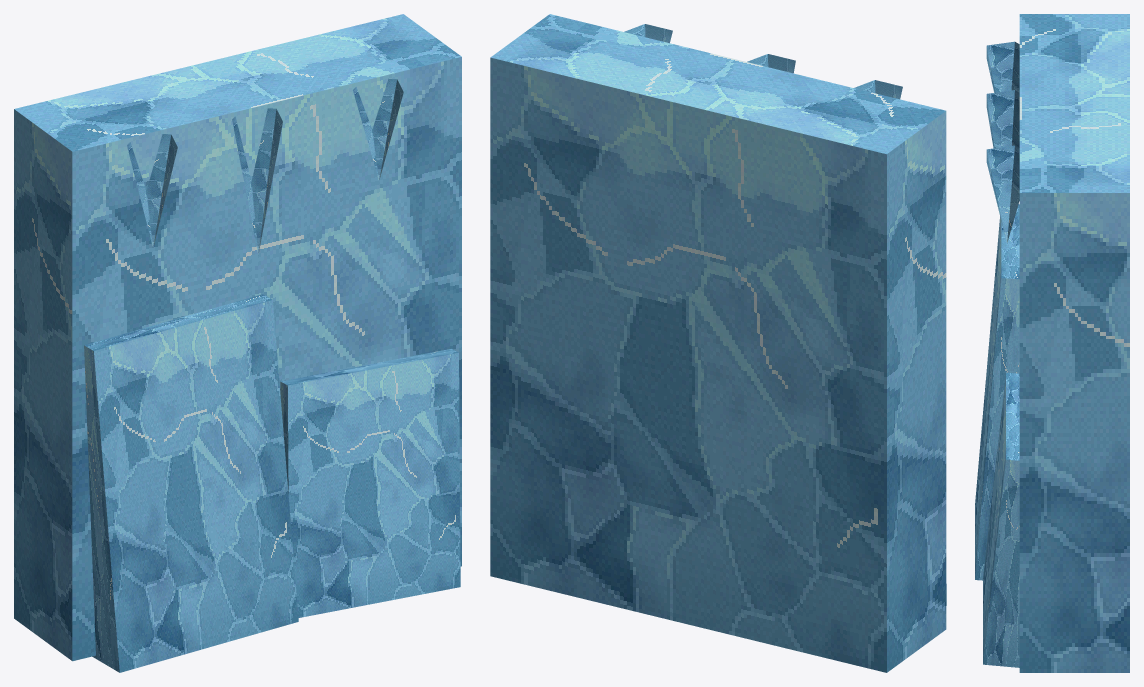
The model's file is parede_caverna_de_gelo.glb.
3 views of the same model, side by side, from view 1: azimuth 30°, elevation 25°; view 2: azimuth 150°, elevation 25°; view 3: azimuth 270°, elevation 25° (orthographic). The views are drawn at different scales.
Parts seen in each view (by area): view 1: parede_caverna_de_gelo; view 2: parede_caverna_de_gelo; view 3: parede_caverna_de_gelo.
Boxes of the visible parts, box(x1,y1,x2,y2) form: parede_caverna_de_gelo: box(14, 14, 461, 672); parede_caverna_de_gelo: box(490, 14, 946, 672); parede_caverna_de_gelo: box(975, 14, 1129, 672).
Size of the model in its own units: 2 by 2.53 by 0.7315.
1 material, 1 textured.
